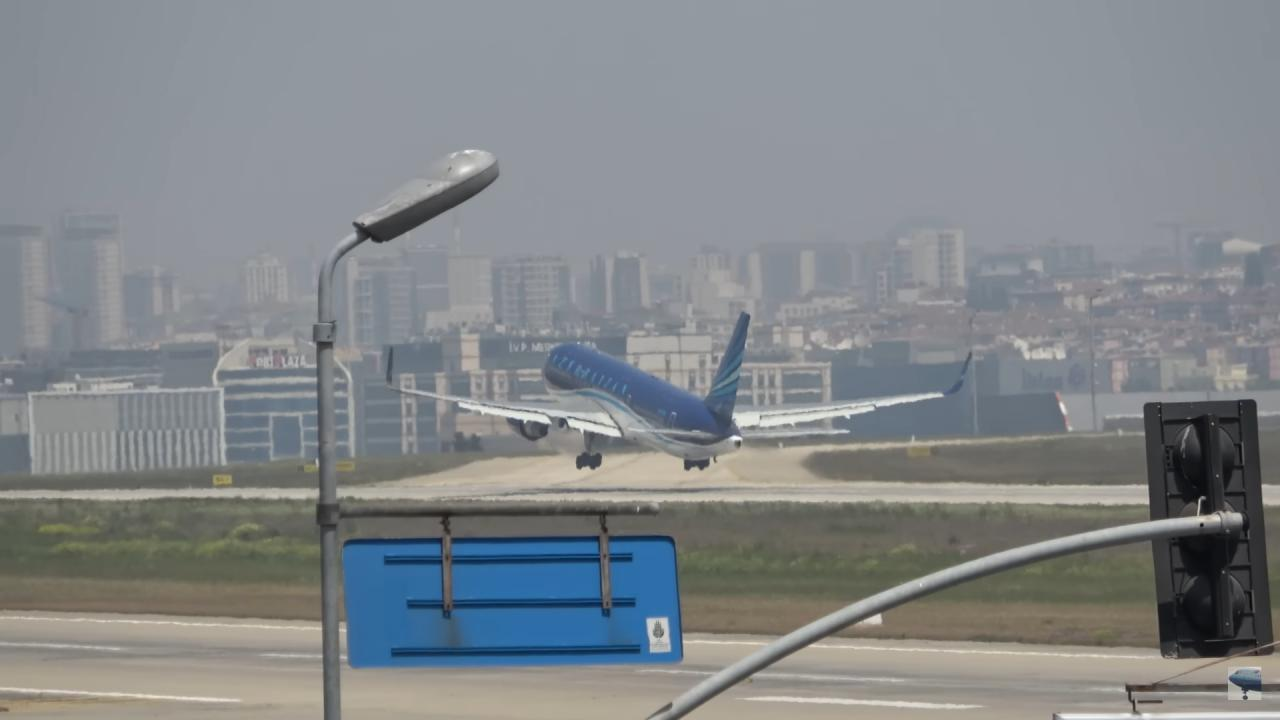Airplane: (374, 303, 986, 477)
